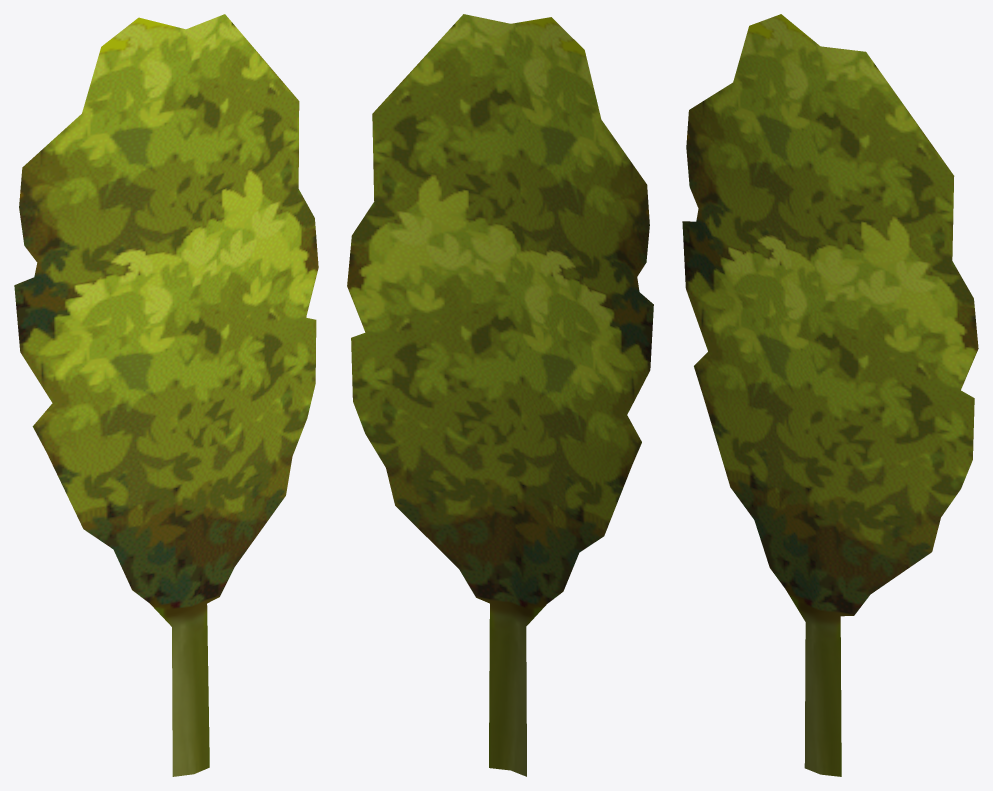
File: sences_changbanpo_shumu002.FBX
The picture shows the model from 3 angles, left to right: view 1: azimuth 30°, elevation 25°; view 2: azimuth 150°, elevation 25°; view 3: azimuth 330°, elevation 25°; orthographic projection. The views are drawn at different scales.
Visible parts, largest first — view 1: sences_changbanpo_shumu002; view 2: sences_changbanpo_shumu002; view 3: sences_changbanpo_shumu002.
Boxes of the visible parts, x1,y1,x2,y2 form: sences_changbanpo_shumu002: [14, 14, 318, 776]; sences_changbanpo_shumu002: [347, 14, 653, 776]; sences_changbanpo_shumu002: [682, 14, 978, 776].
Bounding box in the file's own units: 1.98 × 0.2142 × 4.75.
